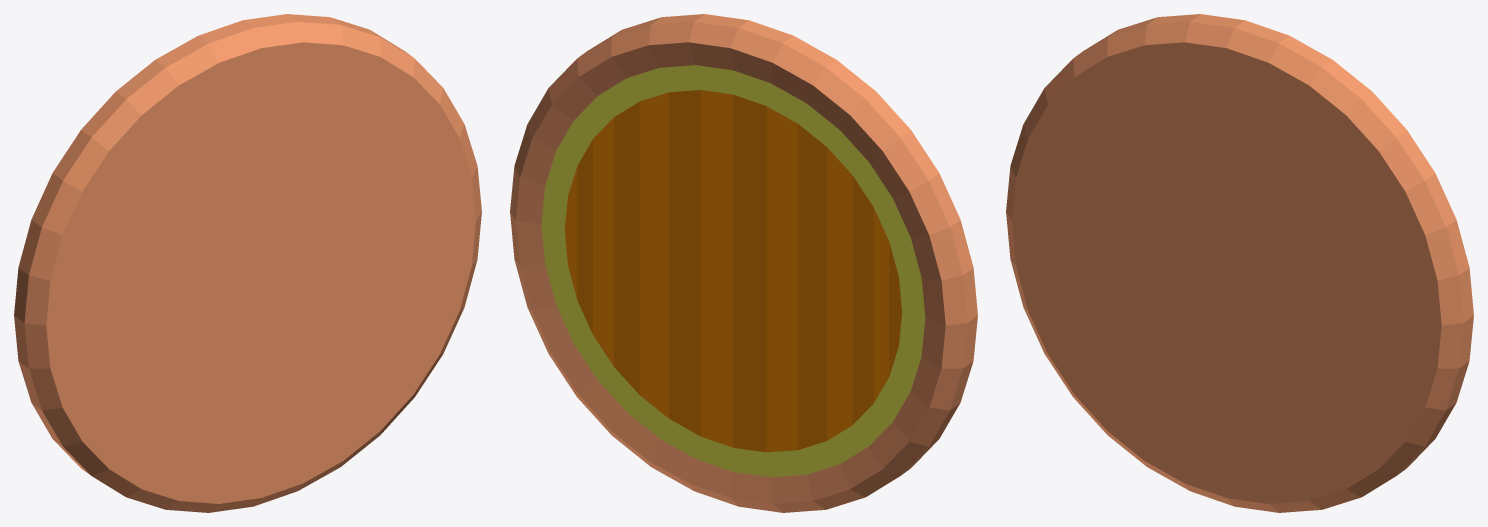
File: coin.glb
The picture shows the model from 3 angles, left to right: view 1: azimuth 30°, elevation 25°; view 2: azimuth 150°, elevation 25°; view 3: azimuth 330°, elevation 25°; orthographic projection.
Visible parts, largest first — view 1: Cylinder; view 2: Cylinder; view 3: Cylinder.
Part boxes in pixels (left/top/right/bottom): Cylinder: left=14, top=14, right=481, bottom=512; Cylinder: left=510, top=14, right=977, bottom=512; Cylinder: left=1006, top=14, right=1473, bottom=512.
Bounding box in the file's own units: 1 × 1 × 0.1.
